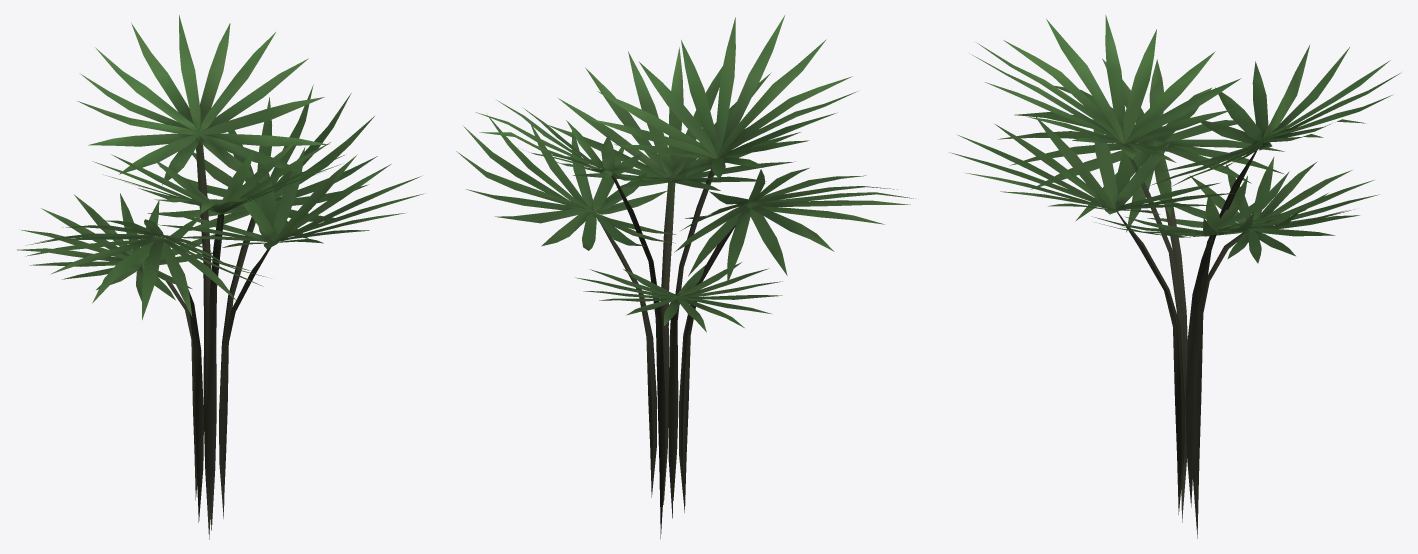
Rendered from plants-trees-palms-fan-palm_v2.fbx.
3 views of the same model, side by side, from view 1: azimuth 30°, elevation 25°; view 2: azimuth 150°, elevation 25°; view 3: azimuth 270°, elevation 25° (orthographic). The views are drawn at different scales.
Visible parts, largest first — view 1: Fan Palm_v2; view 2: Fan Palm_v2; view 3: Fan Palm_v2.
Part boxes in pixels (x1,y1,x2,y2): Fan Palm_v2: [17, 15, 423, 539]; Fan Palm_v2: [456, 15, 915, 538]; Fan Palm_v2: [949, 15, 1401, 538].
Size of the model in its own units: 1.32 by 1.5 by 1.3.
